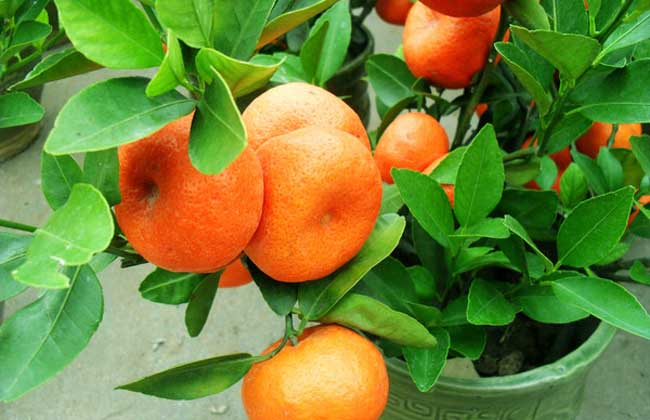orange: (111, 104, 265, 272), (245, 127, 376, 282), (240, 320, 389, 420), (239, 82, 374, 189), (403, 1, 504, 86), (376, 110, 451, 185), (414, 1, 503, 19)
